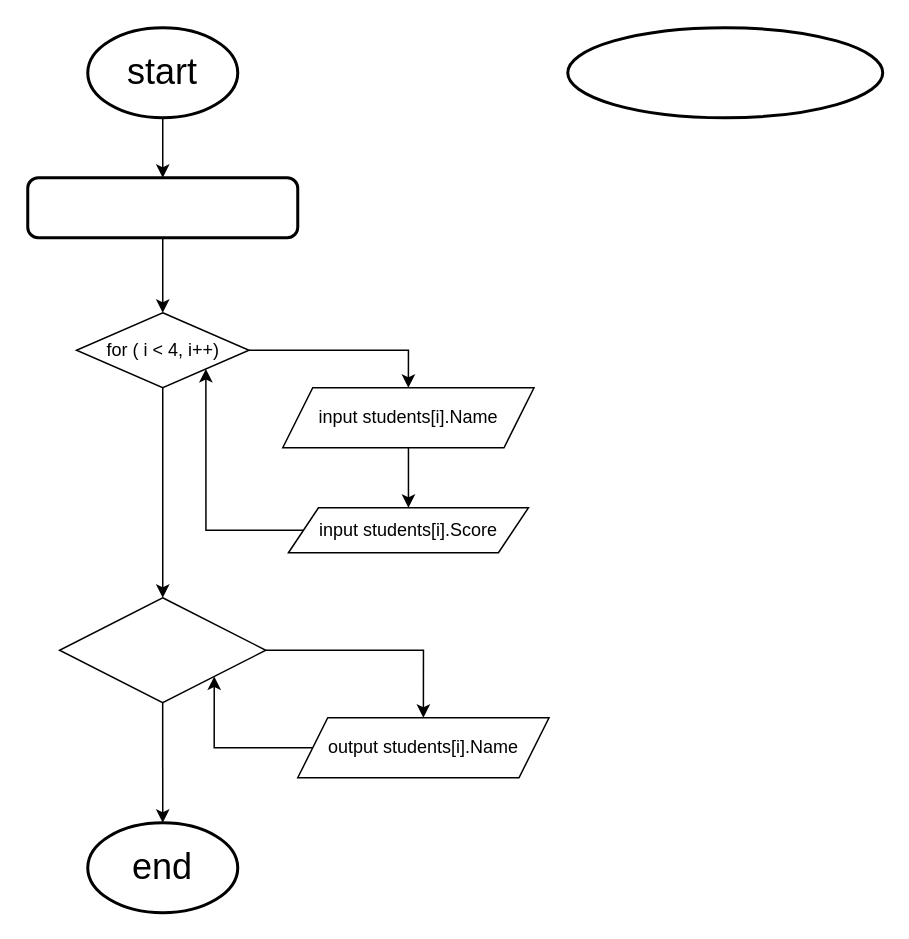
Image size: 909x939. Some labels were removed from this diagram. The shapes that lost their labels are listed below. From the top down, each one's centre as x and y in pixels, then its label:
At (725,72): "Student = { Name, score}".
At (162,207): "Student students[4]".
At (162,649): "for ( i = 3, i >= 0, i--)".
